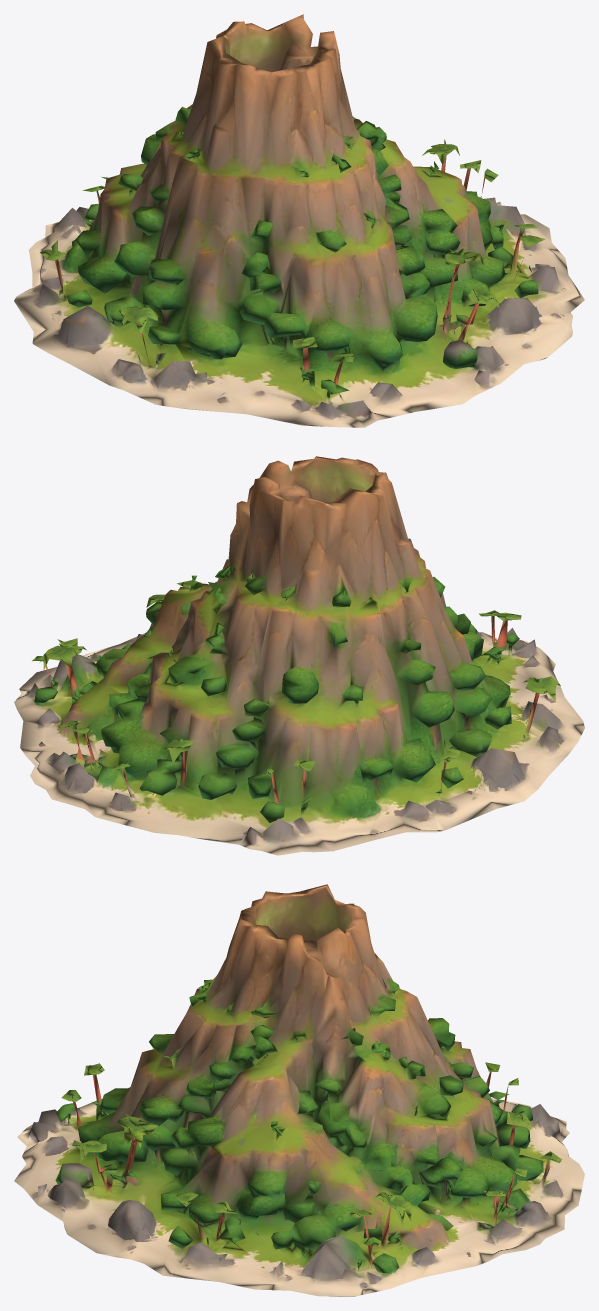
File: vista-volcano.glb
3 renders of one model, top to bottom at view 1: azimuth 30°, elevation 25°; view 2: azimuth 150°, elevation 25°; view 3: azimuth 270°, elevation 25°, orthographic. The views are drawn at different scales.
Visible parts, largest first — view 1: tripo_node_b444abfe-acaf-453b-87c2-3c93c4f19d26; view 2: tripo_node_b444abfe-acaf-453b-87c2-3c93c4f19d26; view 3: tripo_node_b444abfe-acaf-453b-87c2-3c93c4f19d26.
Boxes of the visible parts, x1=… form: tripo_node_b444abfe-acaf-453b-87c2-3c93c4f19d26: x1=14, y1=14, x2=584, y2=427; tripo_node_b444abfe-acaf-453b-87c2-3c93c4f19d26: x1=14, y1=456, x2=584, y2=855; tripo_node_b444abfe-acaf-453b-87c2-3c93c4f19d26: x1=14, y1=884, x2=584, y2=1296.
Size of the model in its own units: 0.9785 by 0.5068 by 0.9963.
Materials: 1 (1 with a texture image).
